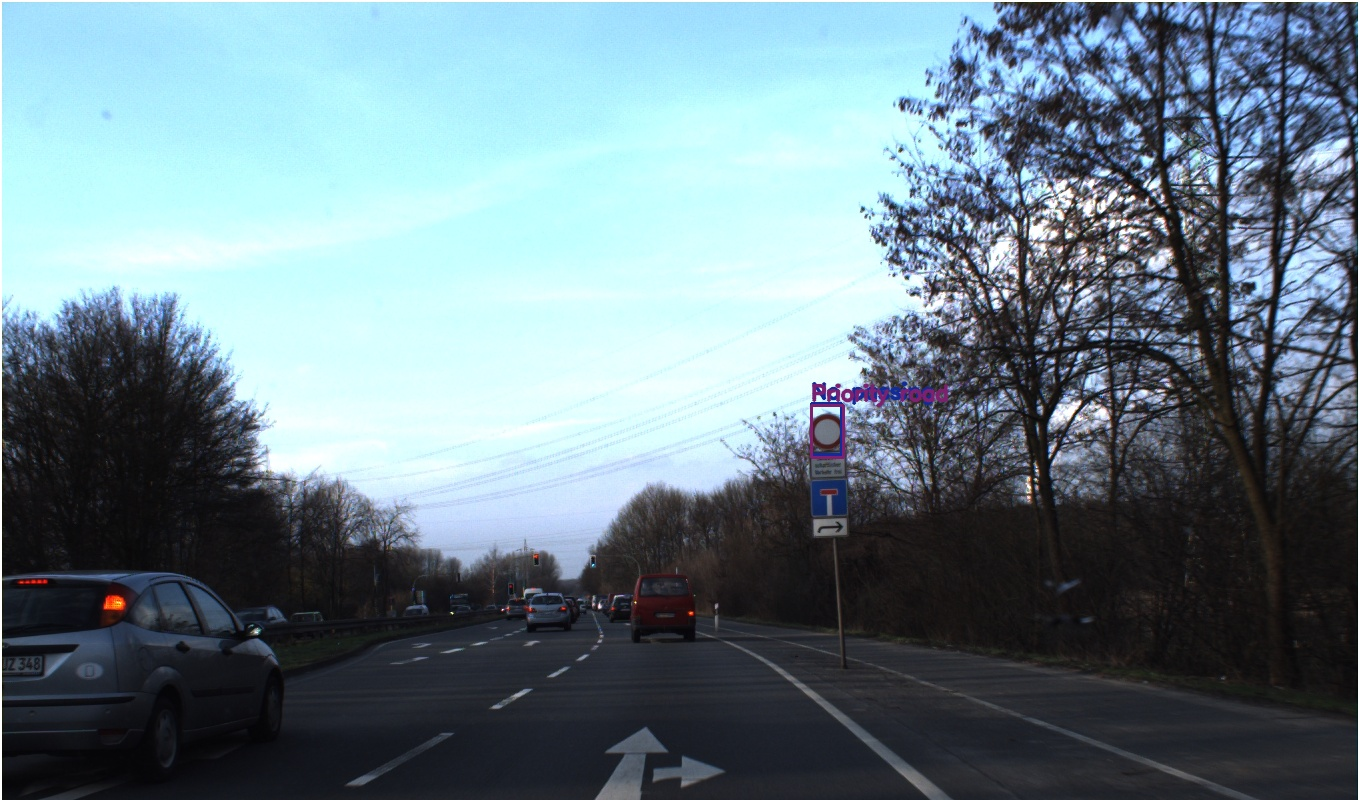Speed limit (100km/h): (460, 409, 492, 442), (1237, 385, 1269, 417)
